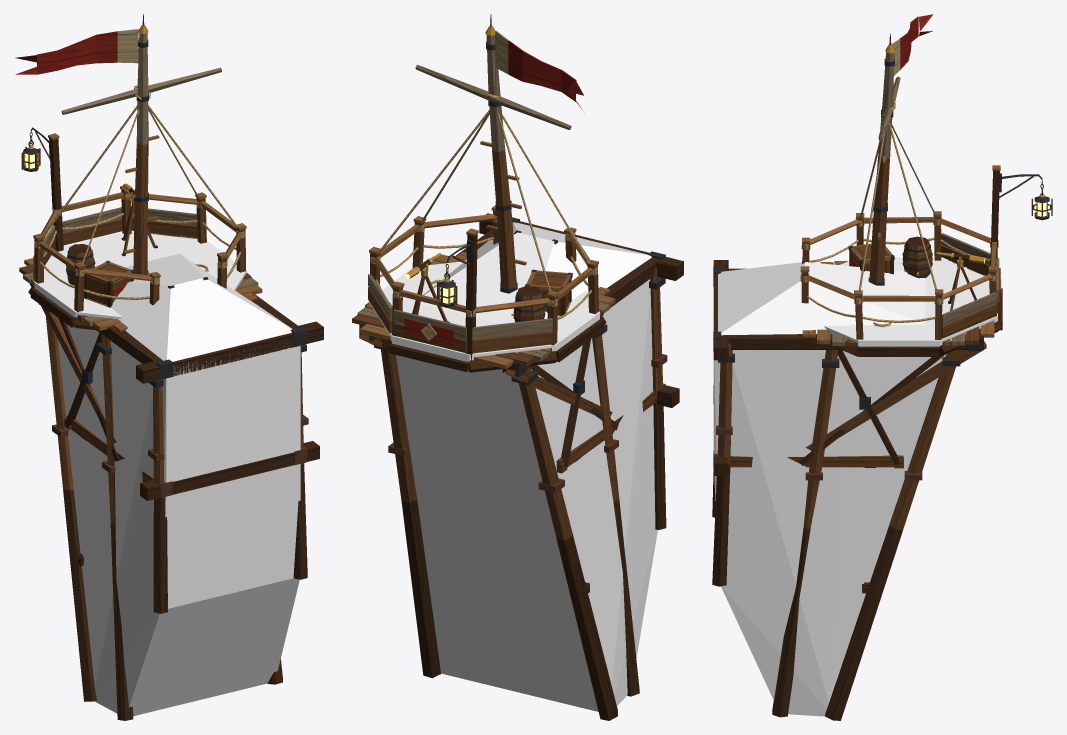
The model's file is cliffside_pirate_watchpost.glb.
3 renders of one model, left to right at view 1: azimuth 30°, elevation 25°; view 2: azimuth 150°, elevation 25°; view 3: azimuth 270°, elevation 25°, orthographic. The views are drawn at different scales.
Parts seen in each view (by area): view 1: col_watchpost_frame, CliffsidePirateWatchpost, col_watchpost_deck; view 2: col_watchpost_frame, CliffsidePirateWatchpost, col_watchpost_deck; view 3: col_watchpost_frame, CliffsidePirateWatchpost, col_watchpost_deck.
Part boxes in pixels (x1=…): col_watchpost_frame: x1=58, y1=253, x2=300, y2=715; CliffsidePirateWatchpost: x1=15, y1=14, x2=323, y2=720; col_watchpost_deck: x1=34, y1=231, x2=246, y2=319; col_watchpost_frame: x1=396, y1=222, x2=657, y2=711; CliffsidePirateWatchpost: x1=352, y1=14, x2=683, y2=720; col_watchpost_deck: x1=368, y1=261, x2=599, y2=362; col_watchpost_frame: x1=713, y1=262, x2=946, y2=716; CliffsidePirateWatchpost: x1=712, y1=14, x2=1052, y2=720; col_watchpost_deck: x1=824, y1=257, x2=997, y2=346.
Size of the model in its own units: 5.2 by 16.13 by 7.7.
Materials: 7 (5 with a texture image).
